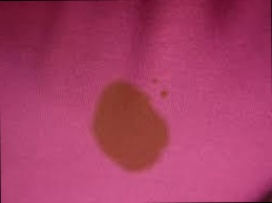oil: (87, 74, 170, 174)
